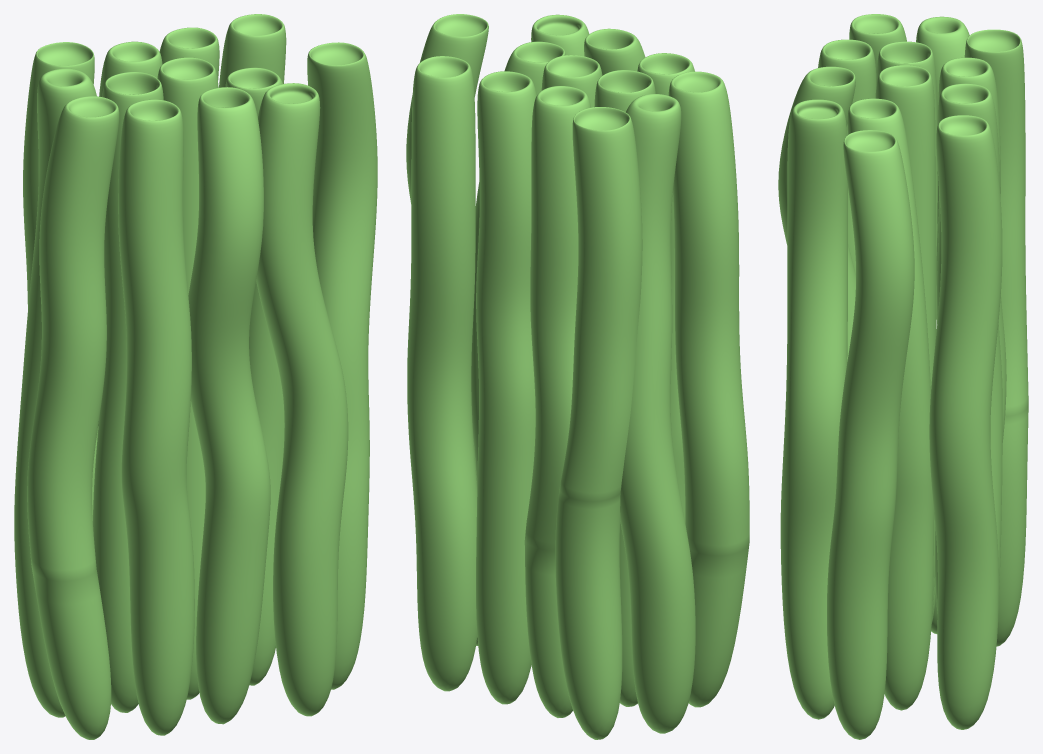
File: Coral2.fbx
3 renders of one model, left to right at view 1: azimuth 30°, elevation 25°; view 2: azimuth 150°, elevation 25°; view 3: azimuth 270°, elevation 25°, orthographic. The views are drawn at different scales.
Visible parts, largest first — view 1: Cube.001, Cube, Cube.004, Cube.009, Cube.012, Cube.002, Cube.005, Cube.008, Cube.003, Cube.011, Cube.010, Cube.006 (+1 smaller); view 2: Cube.010, Cube.011, Cube.001, Cube.007, Cube.005, Cube.006, Cube.002, Cube.012, Cube, Cube.008, Cube.004, Cube.003 (+1 smaller); view 3: Cube.010, Cube.012, Cube.009, Cube.008, Cube.011, Cube.003, Cube.007, Cube.004, Cube.006, Cube, Cube.005, Cube.002 (+1 smaller).
Part boxes in pixels (x1=…): Cube.001: x1=27, y1=96, x2=119, y2=739; Cube: x1=118, y1=99, x2=194, y2=735; Cube.004: x1=188, y1=87, x2=270, y2=724; Cube.009: x1=256, y1=83, x2=348, y2=716; Cube.012: x1=307, y1=42, x2=377, y2=689; Cube.002: x1=93, y1=72, x2=163, y2=712; Cube.005: x1=14, y1=68, x2=96, y2=717; Cube.008: x1=225, y1=67, x2=284, y2=685; Cube.003: x1=157, y1=57, x2=218, y2=699; Cube.011: x1=23, y1=42, x2=98, y2=520; Cube.010: x1=219, y1=14, x2=286, y2=87; Cube.006: x1=98, y1=41, x2=162, y2=425; Cube.010: x1=407, y1=56, x2=477, y2=691; Cube.011: x1=555, y1=107, x2=642, y2=739; Cube.001: x1=668, y1=71, x2=749, y2=707; Cube.007: x1=476, y1=71, x2=536, y2=704; Cube.005: x1=620, y1=94, x2=695, y2=733; Cube.006: x1=524, y1=86, x2=591, y2=717; Cube.002: x1=594, y1=70, x2=655, y2=706; Cube.012: x1=406, y1=14, x2=488, y2=645; Cube: x1=637, y1=53, x2=694, y2=522; Cube.008: x1=471, y1=41, x2=565, y2=485; Cube.004: x1=584, y1=28, x2=645, y2=75; Cube.003: x1=541, y1=55, x2=602, y2=107; Cube.010: x1=929, y1=115, x2=1002, y2=729; Cube.012: x1=827, y1=130, x2=914, y2=739; Cube.009: x1=780, y1=99, x2=847, y2=719; Cube.008: x1=847, y1=98, x2=934, y2=710; Cube.011: x1=964, y1=29, x2=1028, y2=646; Cube.003: x1=875, y1=65, x2=935, y2=623; Cube.007: x1=936, y1=83, x2=1002, y2=588; Cube.004: x1=778, y1=66, x2=855, y2=361; Cube.006: x1=935, y1=57, x2=1006, y2=613; Cube: x1=818, y1=39, x2=876, y2=273; Cube.005: x1=916, y1=16, x2=969, y2=633; Cube.002: x1=876, y1=41, x2=937, y2=622.
Size of the model in its own units: 338 by 607 by 225.
